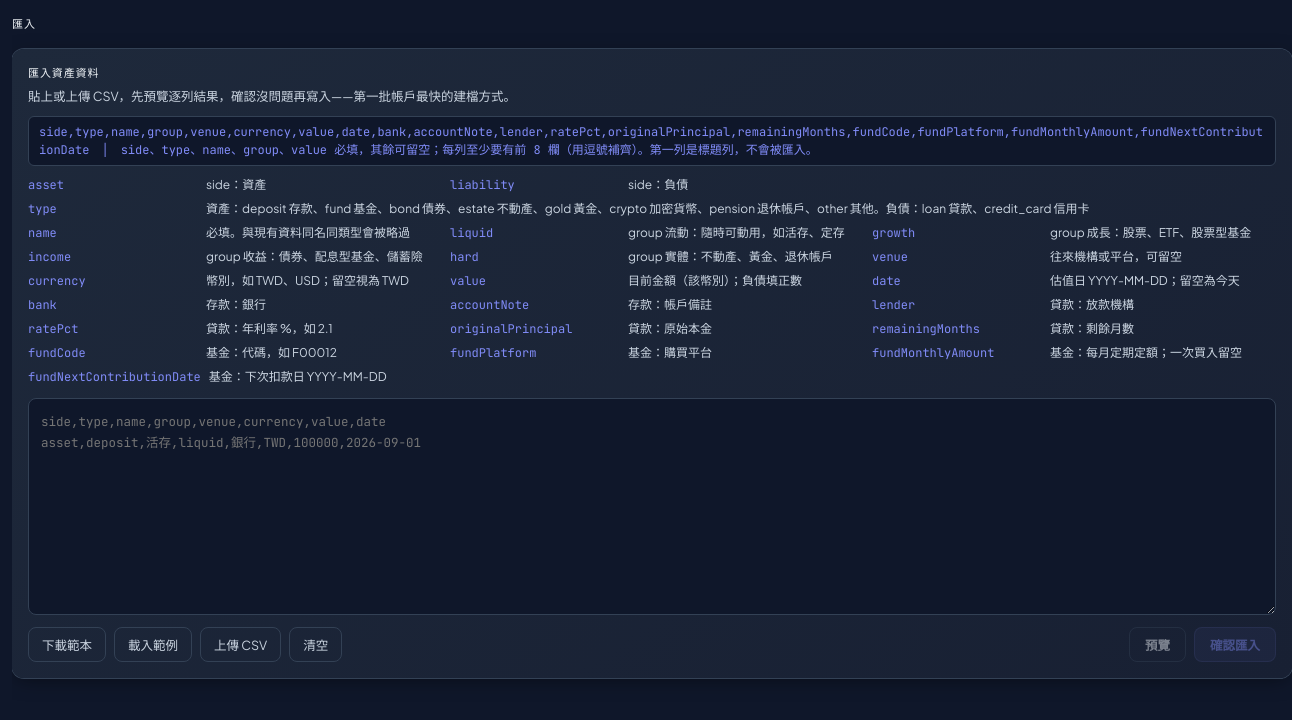
Test: the editor › loads the sample under a header line, and clears
The image size is (1292, 720).
Step 1. Click the button "載入範例" → (153, 644), box [114, 627, 192, 662]
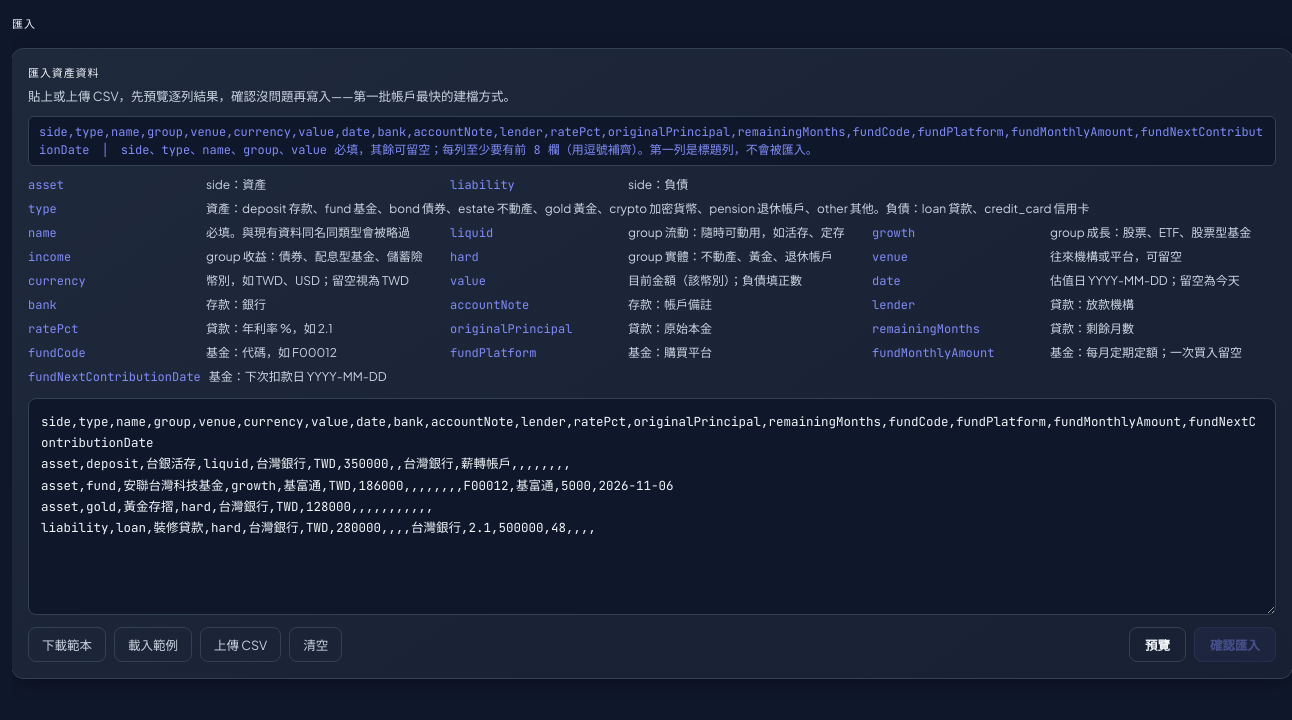
Step 2. Click the button "清空" → (316, 644), box [289, 627, 342, 662]
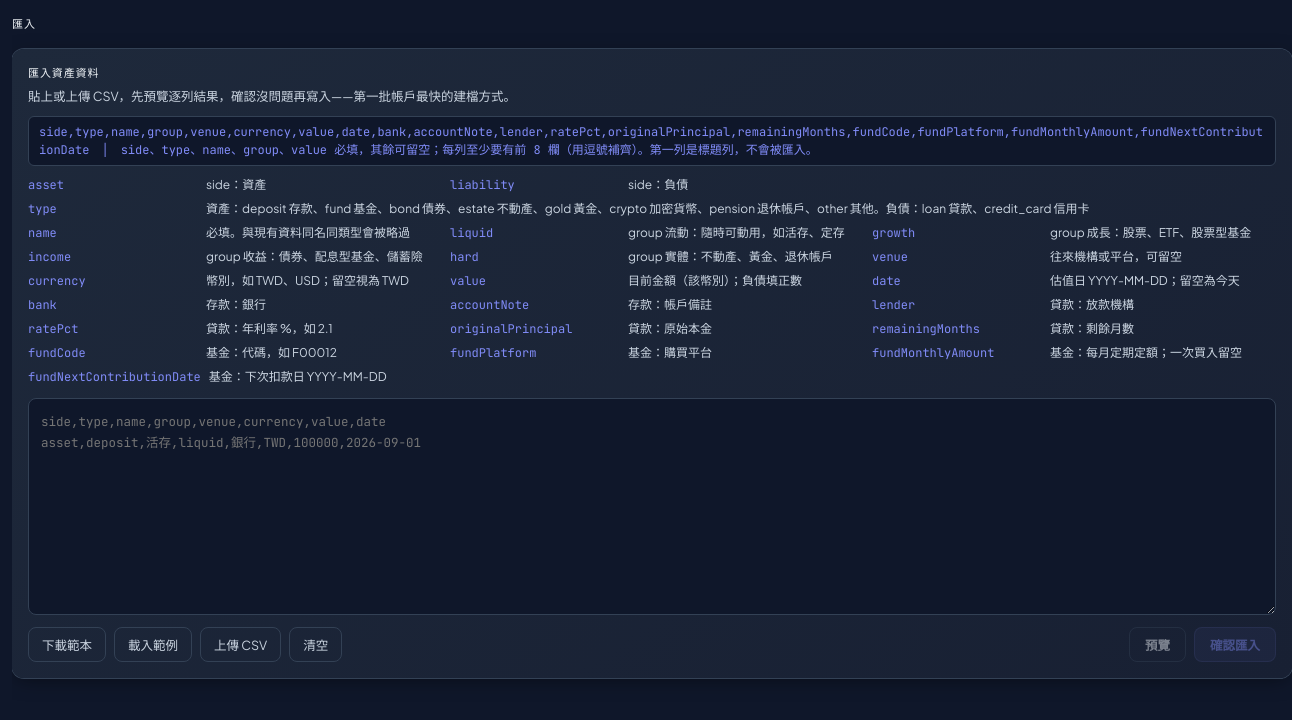
Result: the text box is empty at [28, 398, 1276, 615]
